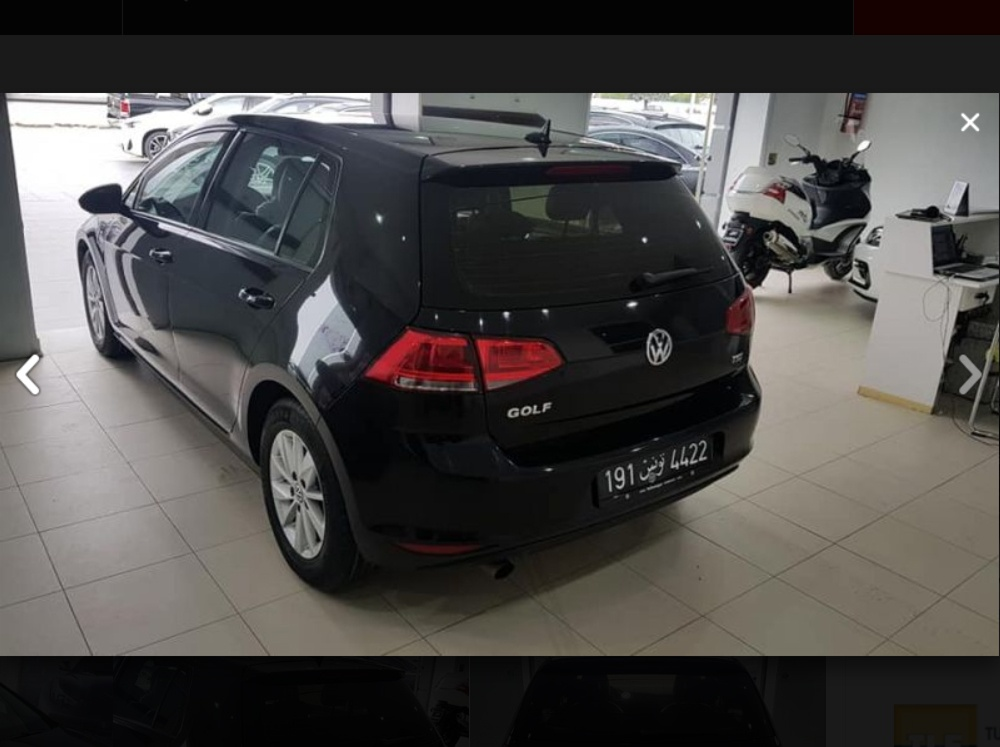LP: (595, 430, 722, 507)
